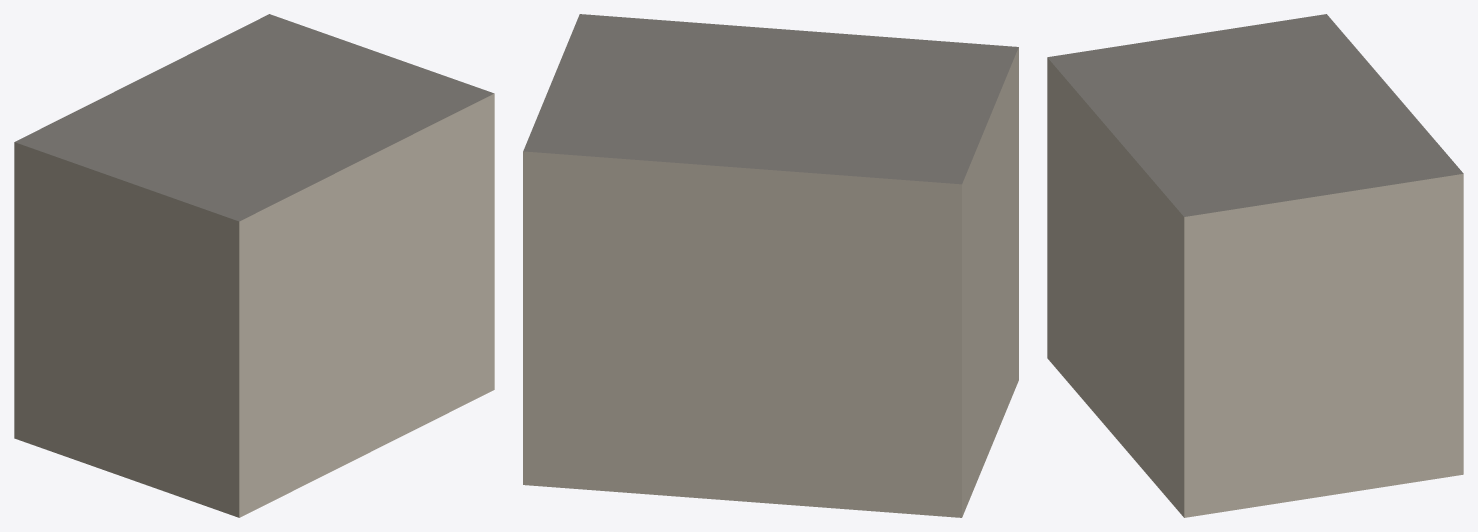
The picture shows the model from 3 angles, left to right: view 1: azimuth 30°, elevation 25°; view 2: azimuth 150°, elevation 25°; view 3: azimuth 270°, elevation 25°; orthographic projection. The views are drawn at different scales.
Parts seen in each view (by area): view 1: HP-w1287260017; view 2: HP-w1287260017; view 3: HP-w1287260017.
Part boxes in pixels (x1=…): HP-w1287260017: x1=14, y1=14, x2=494, y2=517; HP-w1287260017: x1=523, y1=14, x2=1018, y2=517; HP-w1287260017: x1=1047, y1=14, x2=1463, y2=517.
Bounding box in the file's own units: 26.05 × 18 × 22.58.
